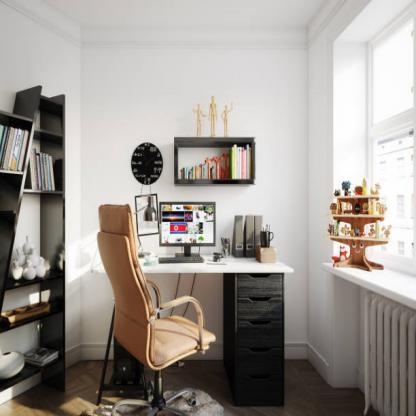chair: (97, 204, 217, 416)
clock: (124, 140, 164, 198)
table: (151, 254, 289, 412)
